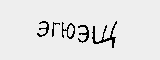Г: (49, 19, 62, 40)
Щ: (90, 21, 120, 49)
Э: (76, 23, 91, 46), (35, 19, 49, 40)
Ю: (59, 21, 75, 43)
